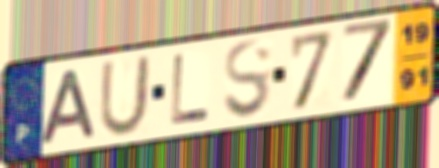7: (340, 17, 395, 108), (288, 26, 337, 114)
A: (38, 66, 100, 147)
L: (169, 52, 212, 128)
S: (221, 37, 274, 122)
U: (97, 53, 153, 139)
